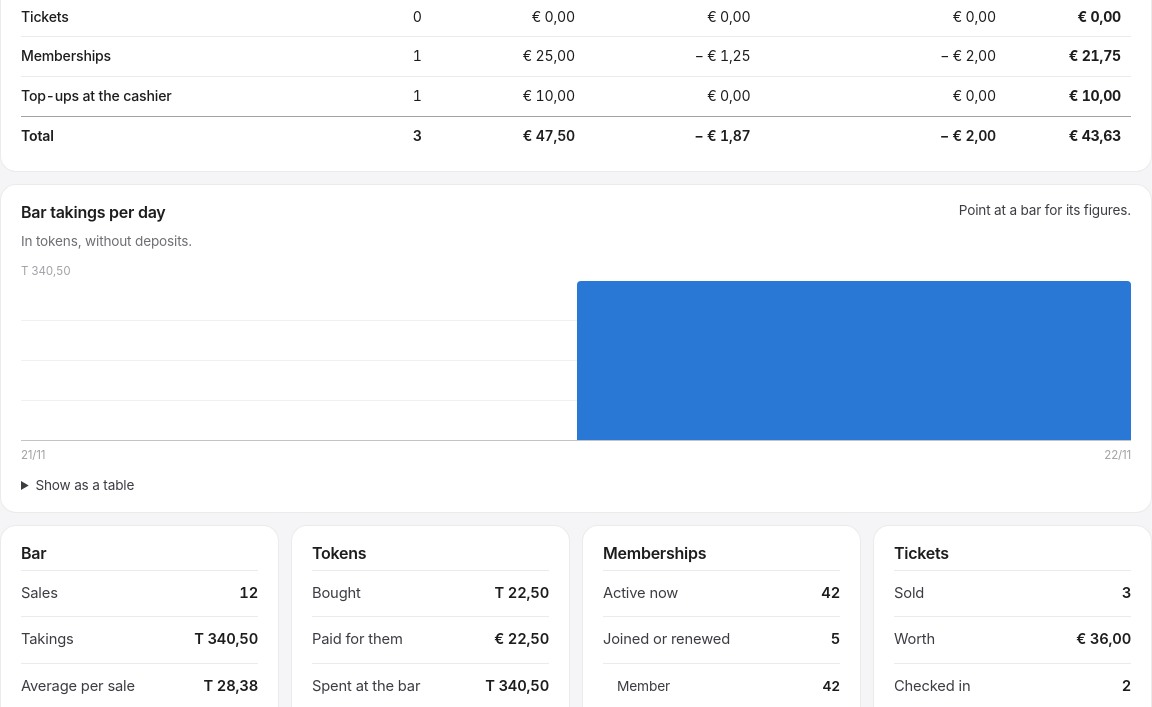
OverviewTab › shows each bar day on hover and as a table
The image size is (1152, 707).
(page scrolled)
Hover over the button named "22 November: T 340,50".
mouse_move(854, 361)  # box [577,281,1131,440]
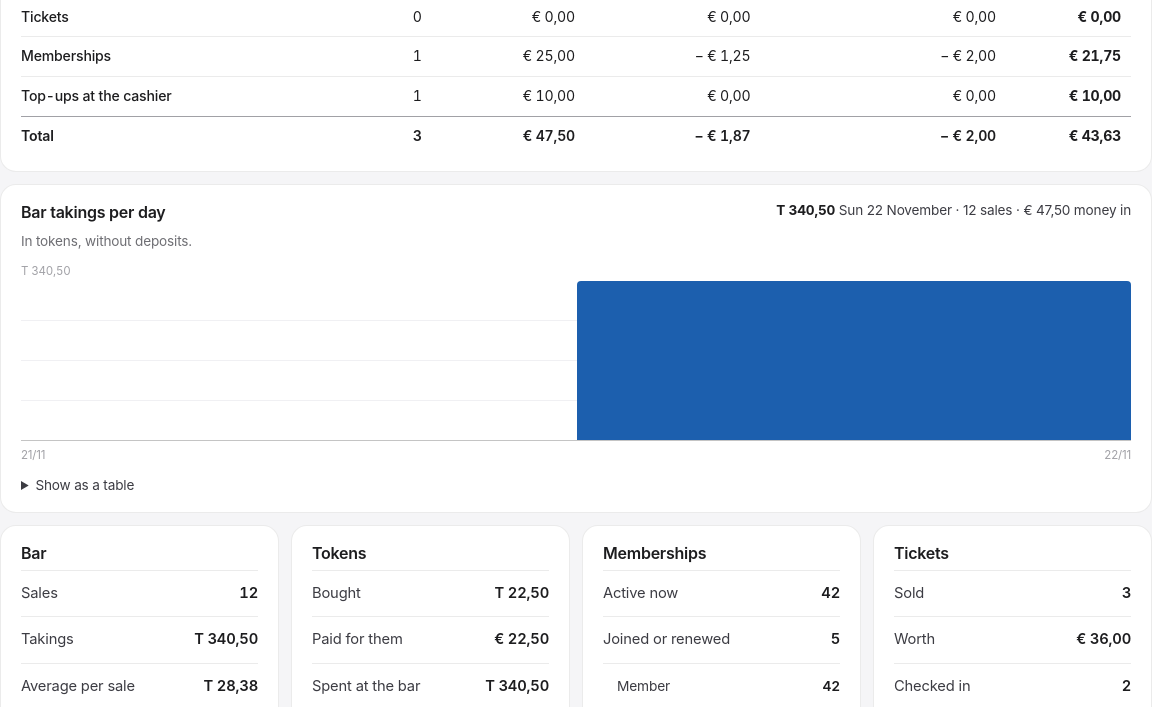
Expected: the text "12 sales" is shown, [963,202,1012,218]
Click the heading "Show as a table".
click(85, 485)  # box [35,477,134,493]
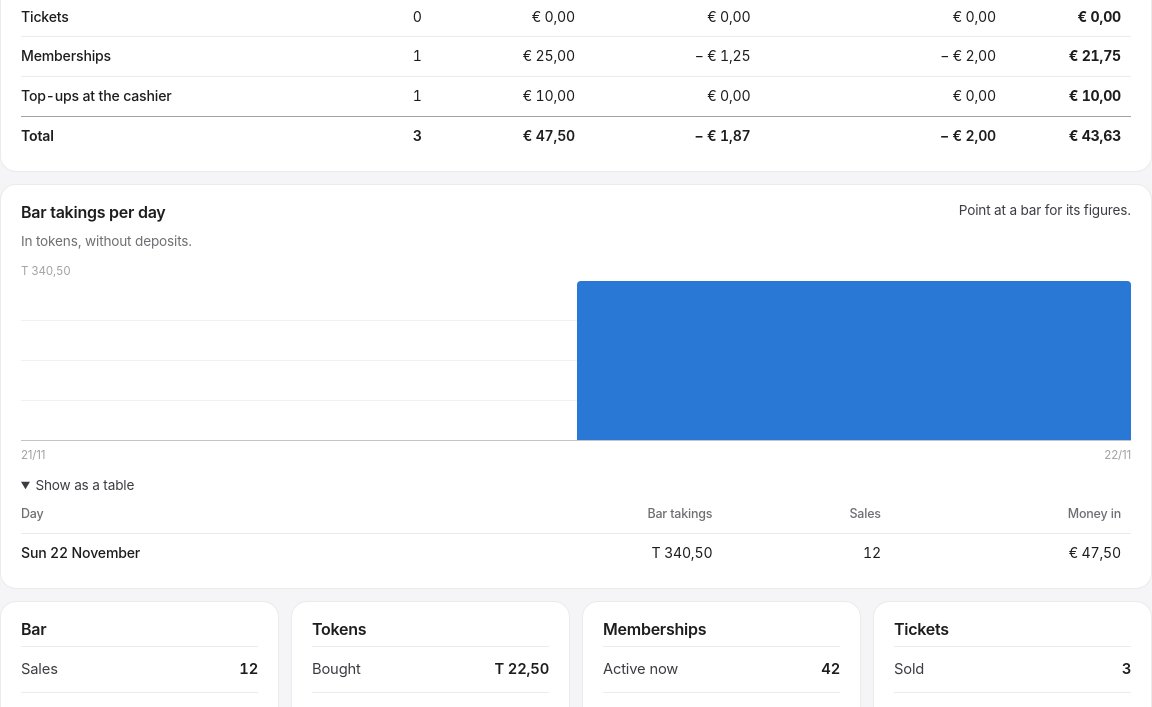
Expected: the row "Sun 22 November T 340,50 12 € 47,50" is shown, [21,533,1131,572]
